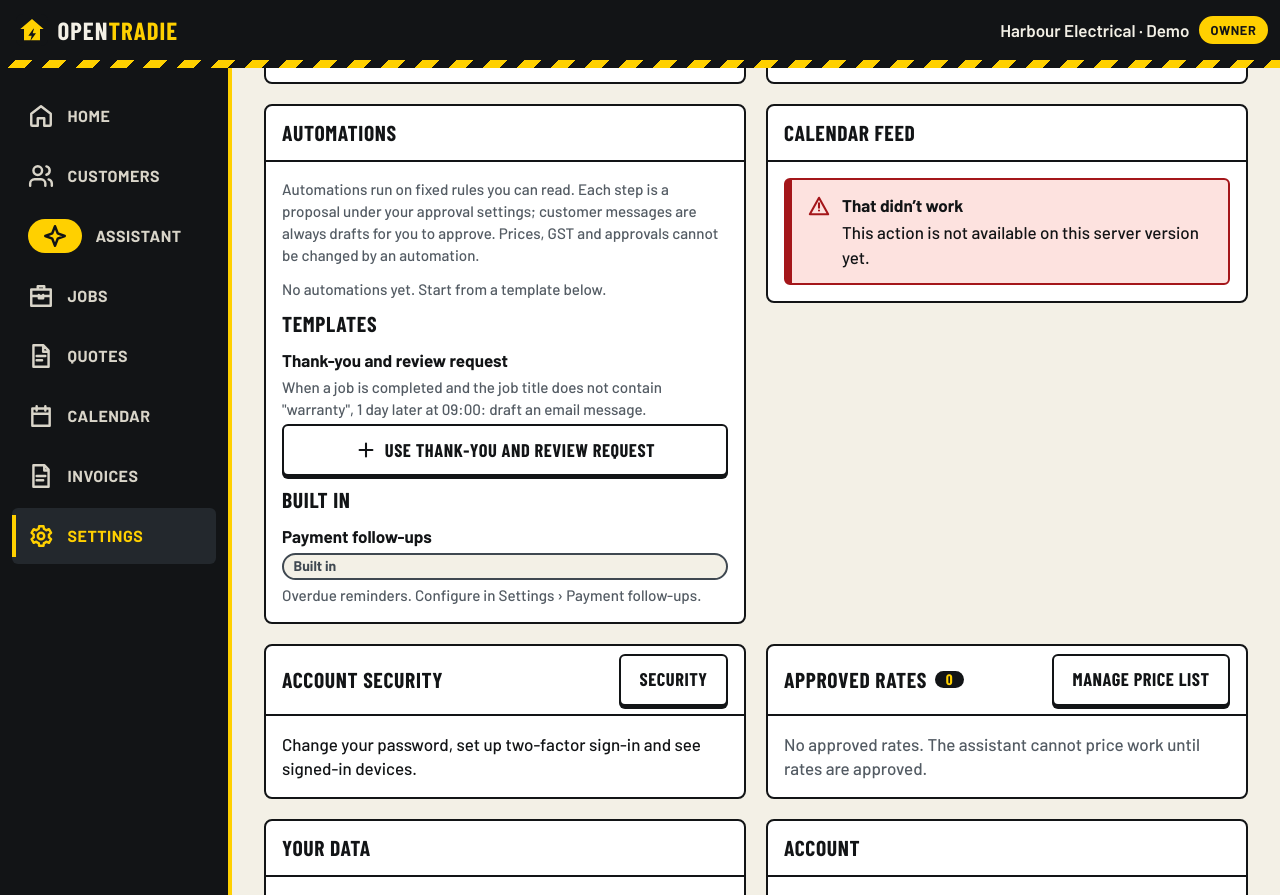
Test case: automations settings › enables a template, shows the server summary, built-ins and run history
(page scrolled)
Expected: the element with test id "automations" shows "No automations yet", top-left (282, 280), bottom-right (606, 298)
Expected: the element with test id "automations" shows "Payment follow-ups", top-left (282, 526), bottom-right (432, 546)
Click the button "Use Thank-you and review request": [505, 450] box top-left (282, 424), bottom-right (728, 476)
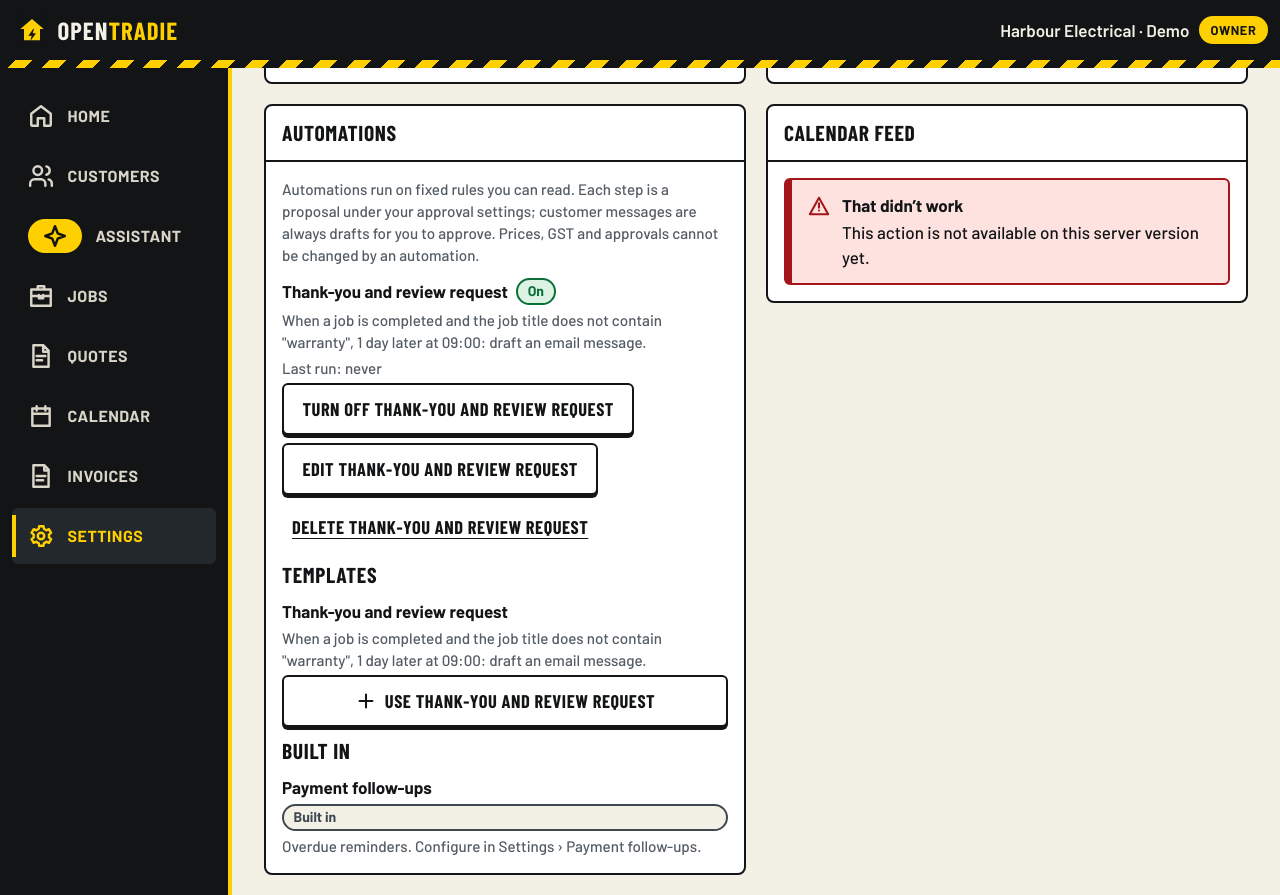
Result: the list item with test id "automation-item" shows "When a job is completed and the job title does not contain \"warranty\", 1 day later at 09:00: draft an email message." at top-left (282, 311), bottom-right (662, 351)
Click the button "Edit Thank-you and review request": [440, 469] box top-left (282, 443), bottom-right (598, 495)
(page scrolled)
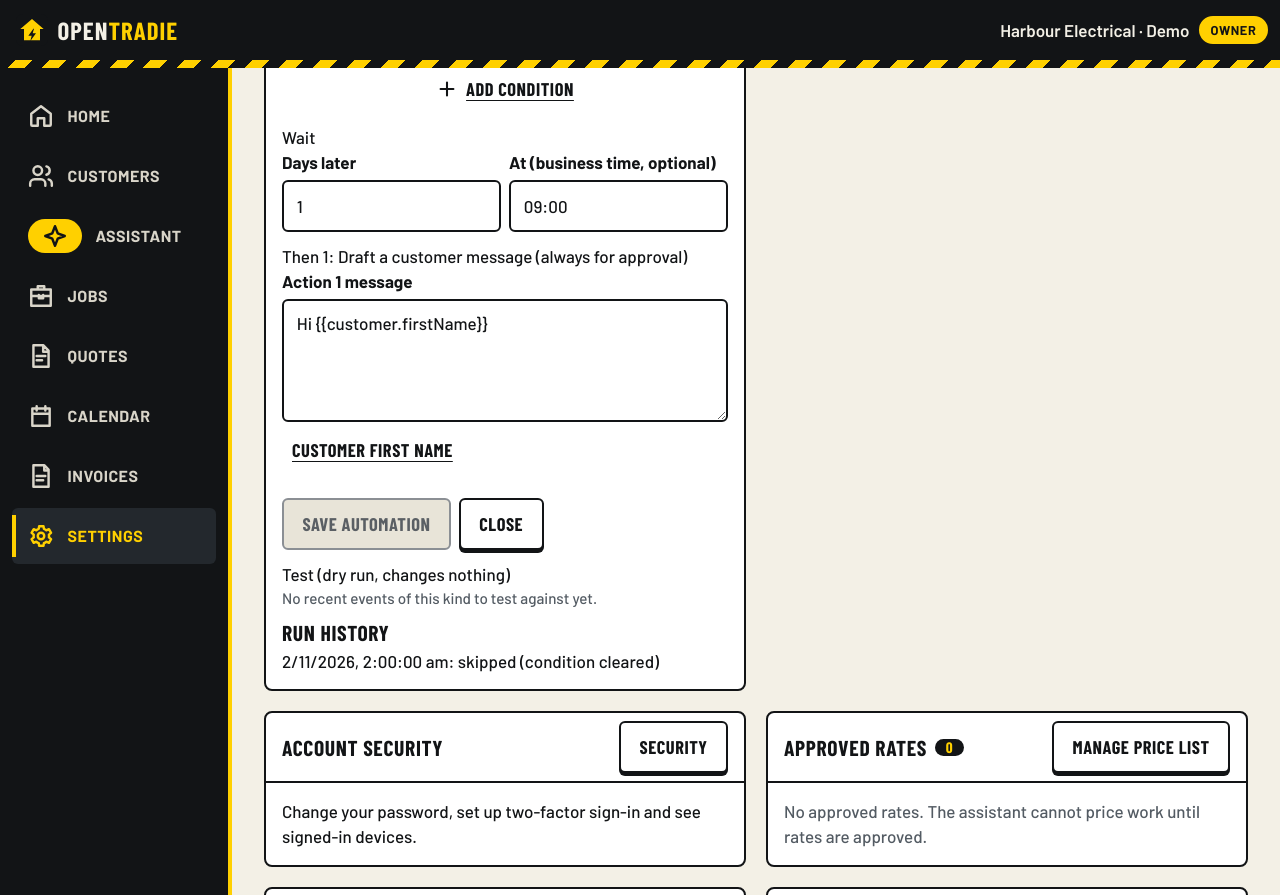
Click the button "Customer first name": [372, 450] box top-left (282, 426), bottom-right (463, 474)
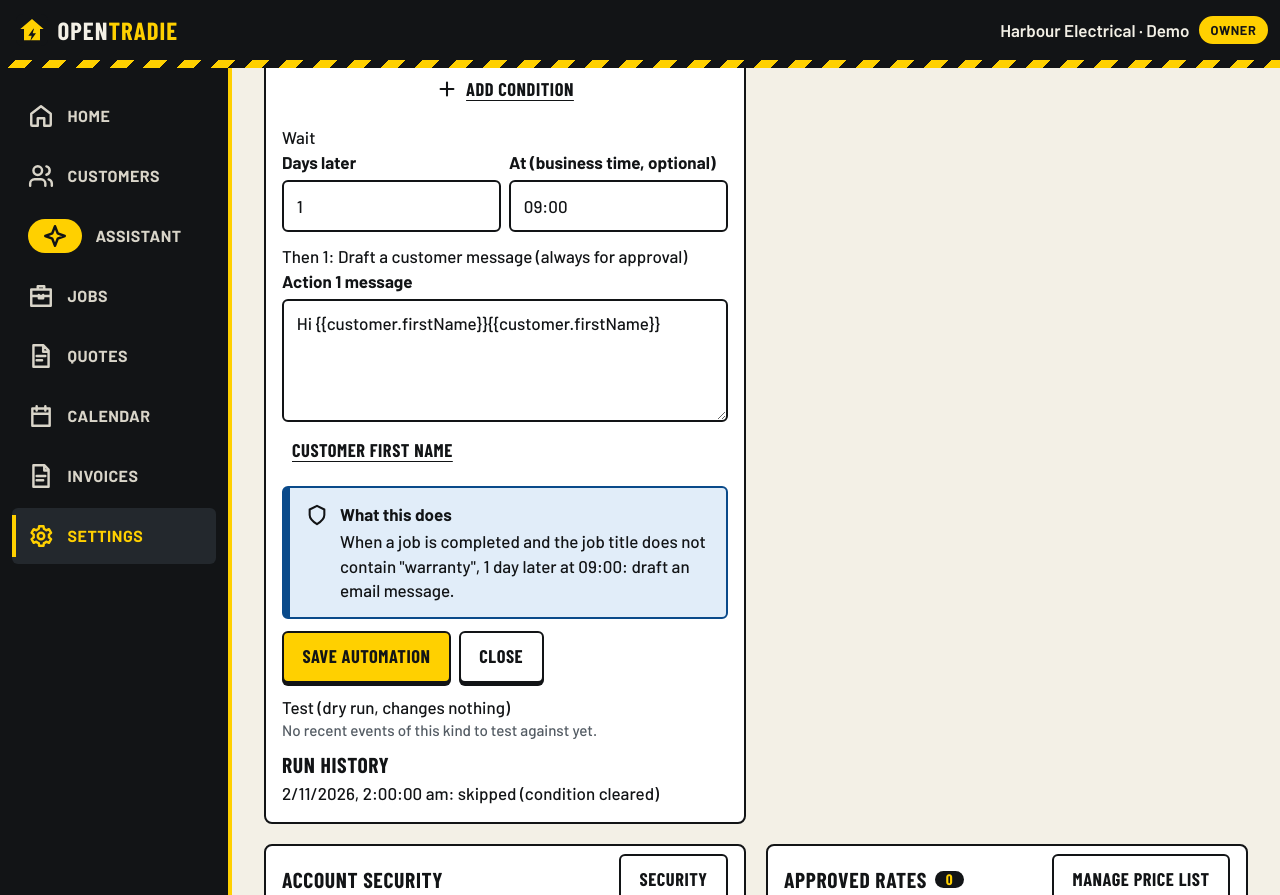
Result: the list with test id "automation-runs" shows "condition cleared" at top-left (516, 783), bottom-right (659, 803)
Result: the text box labelled "Action 1 message" holds "Hi {{customer.firstName}}{{customer.firstName}}" at top-left (282, 299), bottom-right (728, 422)
Result: the element with test id "automation-summary" shows "1 day later" at top-left (340, 531), bottom-right (706, 600)
